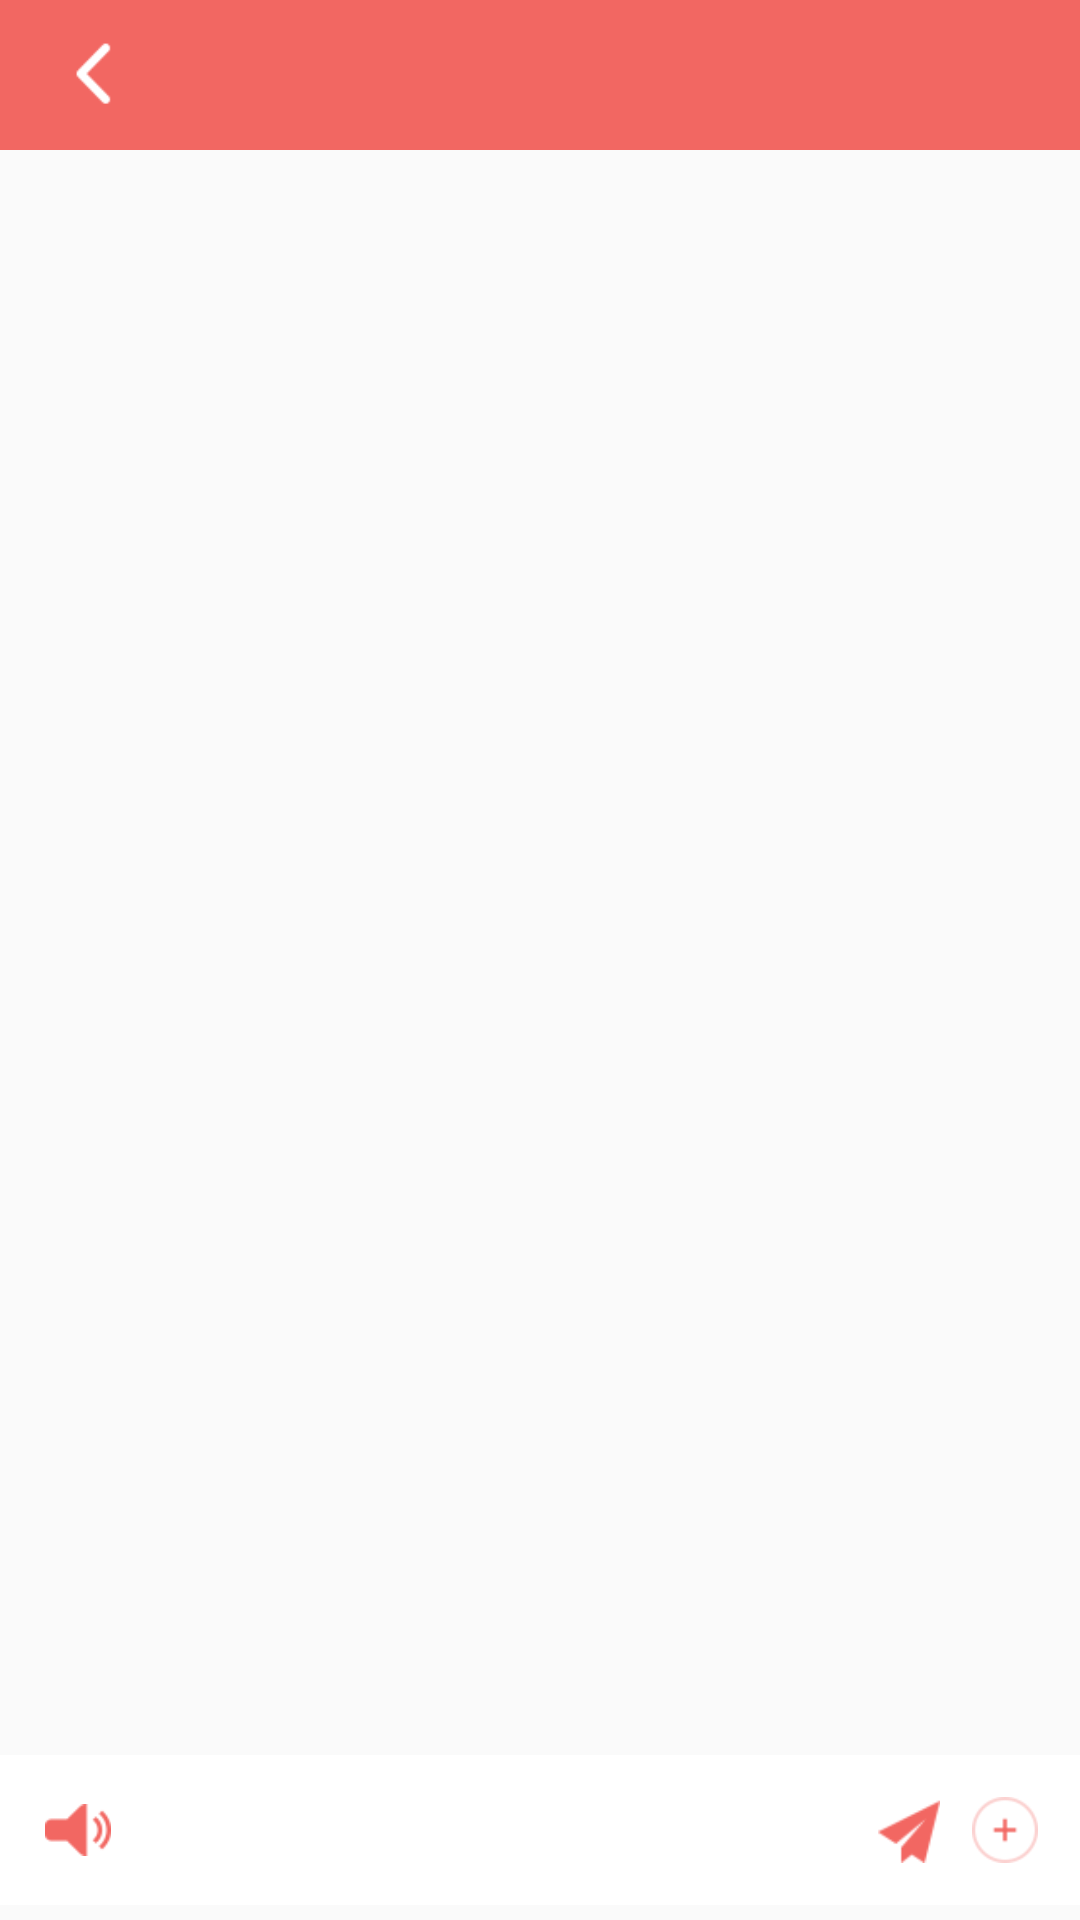

Point at icon controls on the screen. Image size 1080x1920, points as point (x, y).
add: point (1005, 1830)
laba: point (78, 1830)
send: point (909, 1831)
